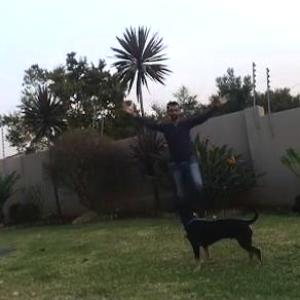takeoff: (116, 94, 229, 219)
